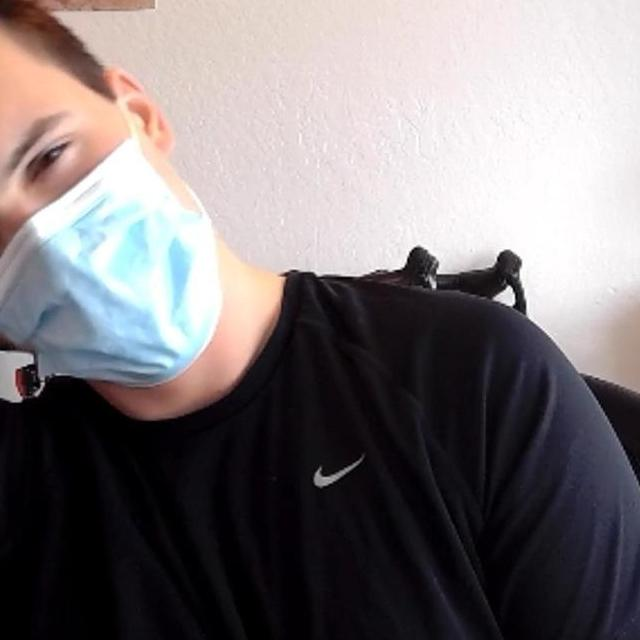Mask: (0, 142, 219, 384)
NO-Safety Vest: (0, 300, 535, 640)
Person: (0, 0, 640, 640)
